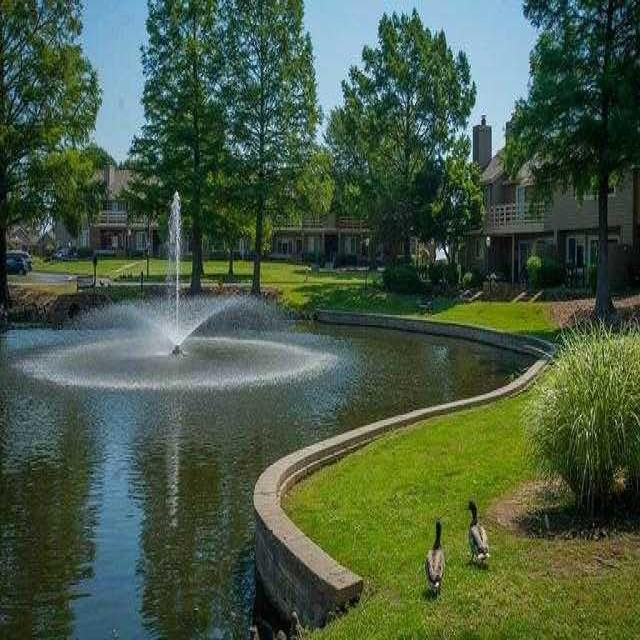Ponds: (1, 286, 563, 640)
